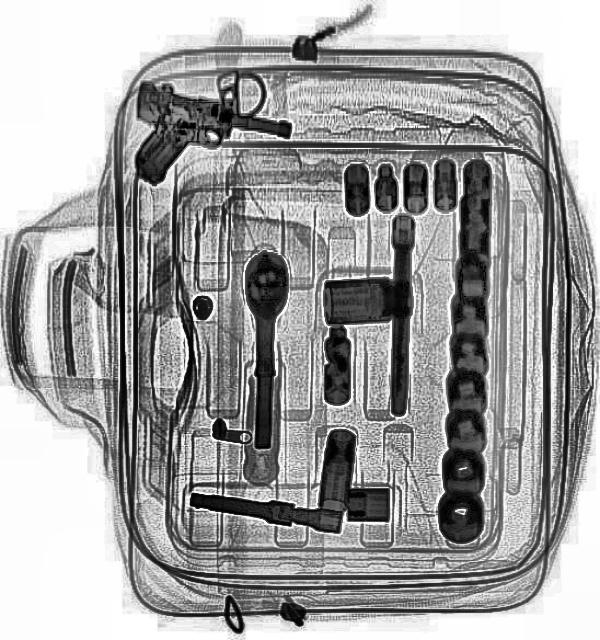Gun: (110, 74, 294, 216)
